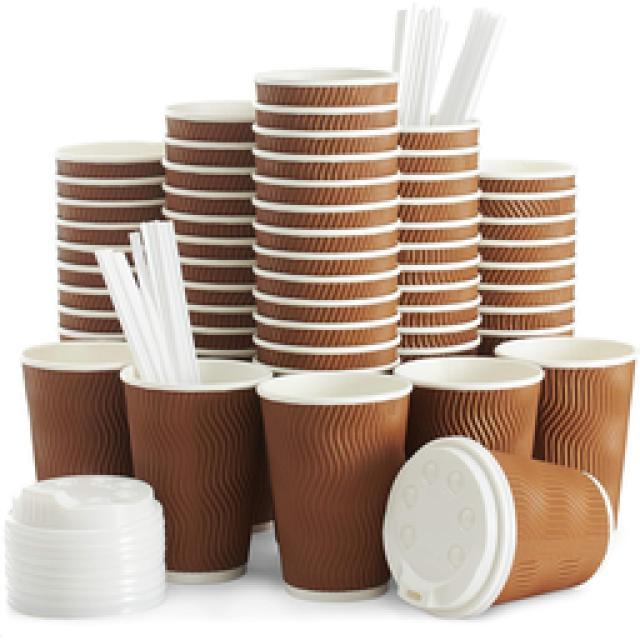paper_cups: (383, 433, 611, 617), (255, 367, 415, 603), (120, 352, 277, 586), (492, 333, 637, 522), (394, 355, 546, 482), (20, 336, 144, 480)
